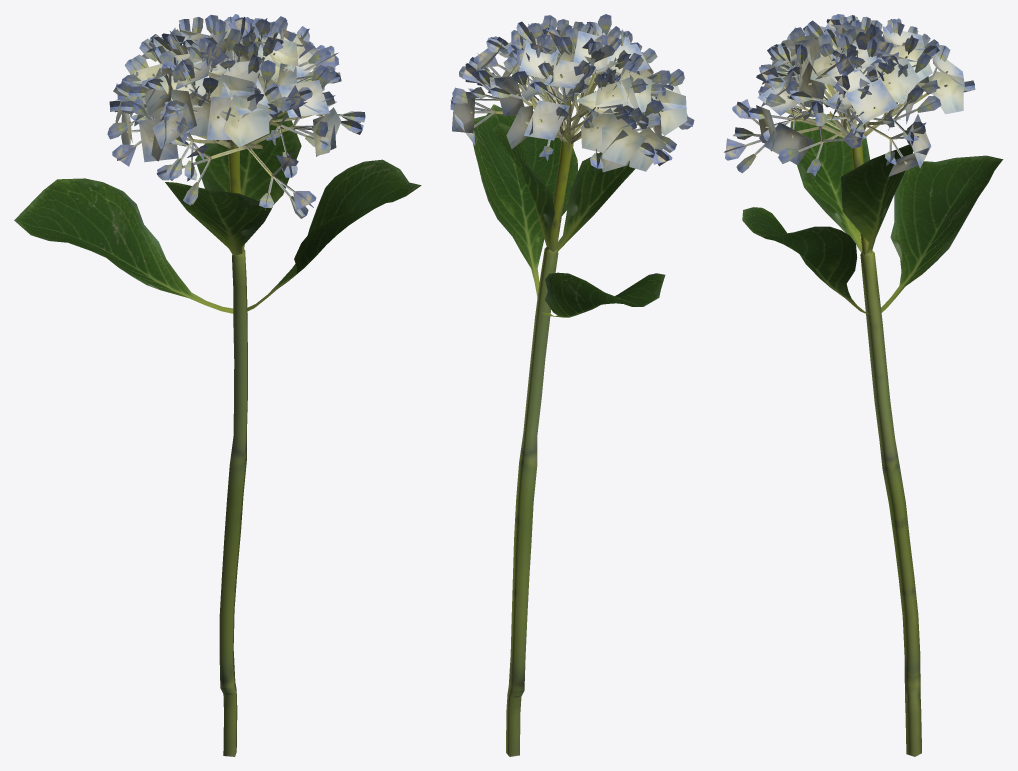
Rendered from Hydrangea_baby_short_lightblue.glb.
3 renders of one model, left to right at view 1: azimuth 30°, elevation 25°; view 2: azimuth 150°, elevation 25°; view 3: azimuth 270°, elevation 25°, orthographic. The views are drawn at different scales.
Visible parts, largest first — view 1: BABY; view 2: BABY; view 3: BABY.
Boxes of the visible parts, x1,y1,x2,y2 form: BABY: [14, 14, 421, 756]; BABY: [450, 14, 694, 756]; BABY: [724, 14, 1003, 756].
Bounding box in the file's own units: 0.7928 × 2.03 × 0.7195.
1 material, 1 textured.
